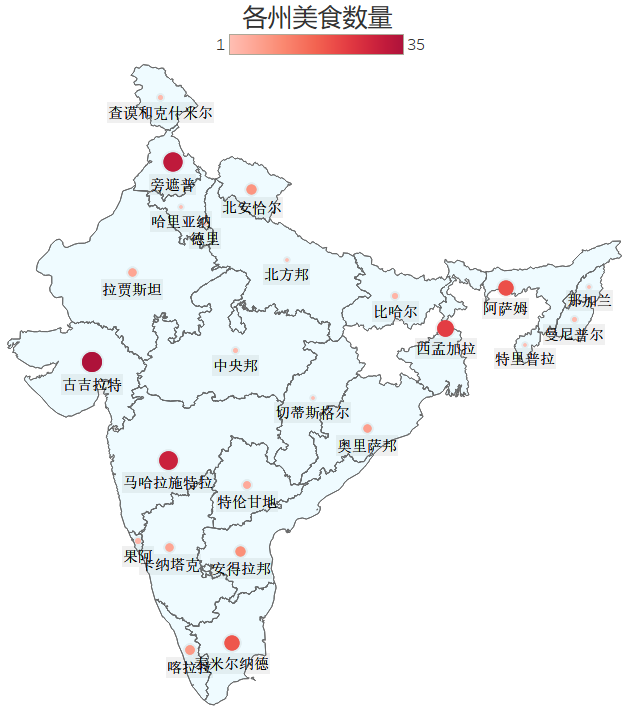

The dashboard page shown, as its layout file describes it:
{"tool":"tableau","page":{"name":"各州美食数量","canvas":[1000,800],"ordinal":1},"visuals":[{"type":"worksheet","title":"工作表 1 (2)","mark":"Automatic","box":[33,33,787,767]},{"type":"legend","title":"工作表 1 (2)","param":"[federated.1ia185u12301xa1ehuvfc1k5n9s5].[sum:state:qk]","box":[321,69,218,38]}]}

Visuals, with their boxes on the page's 1000x800 design canvas (x1, y1, x2, y2). These are canvas units, not pixel positions in the 642x710 screenshot, which may show the page scaled, cropped or inside an application window:
"工作表 1 (2)" worksheet: {"x1": 33, "y1": 33, "x2": 820, "y2": 800}
"工作表 1 (2)" legend: {"x1": 321, "y1": 69, "x2": 539, "y2": 107}
